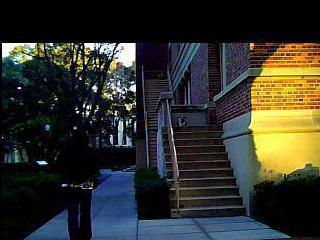Escaleras: (154, 121, 248, 218), (147, 67, 184, 174)
